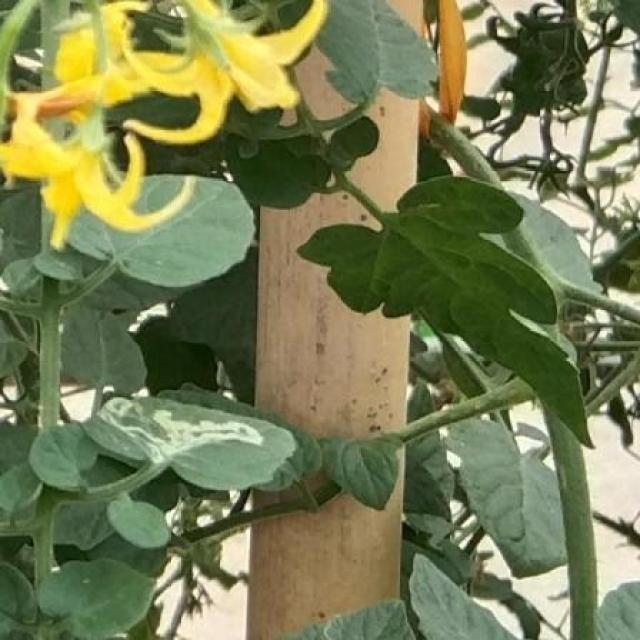Leaf Miner: (83, 395, 300, 496)
